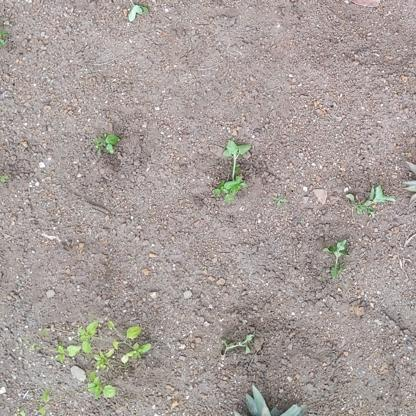weed: (53, 315, 159, 395), (216, 137, 252, 201), (341, 184, 394, 211), (322, 237, 352, 282), (88, 133, 124, 155)
